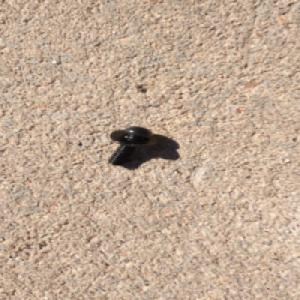BoltWasher: (105, 125, 159, 166)
